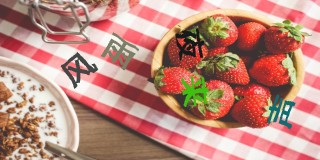声: (266, 93, 296, 129)
夜: (175, 28, 204, 59)
来: (180, 76, 209, 108)
雨: (102, 32, 138, 70)
风: (60, 52, 99, 89)
